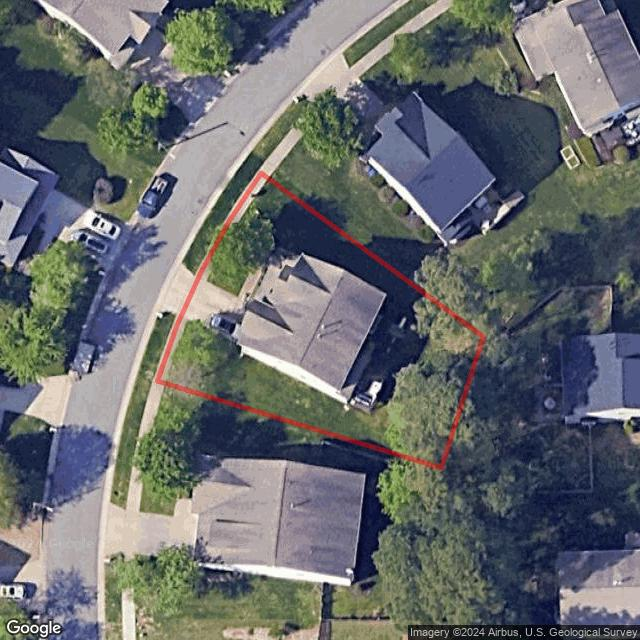Driveway: (182, 277, 249, 341)
Extra-Driveway: (157, 262, 197, 316)
Extra-Lawn: (182, 161, 257, 275), (138, 309, 177, 383)
Extra-Sidewalk: (195, 173, 262, 277), (153, 314, 181, 382)
House: (225, 245, 387, 400)
Lawn: (157, 175, 482, 468)
Other: (336, 338, 386, 414), (157, 316, 187, 384)
Sidewalk: (198, 175, 268, 281), (236, 256, 269, 303)
